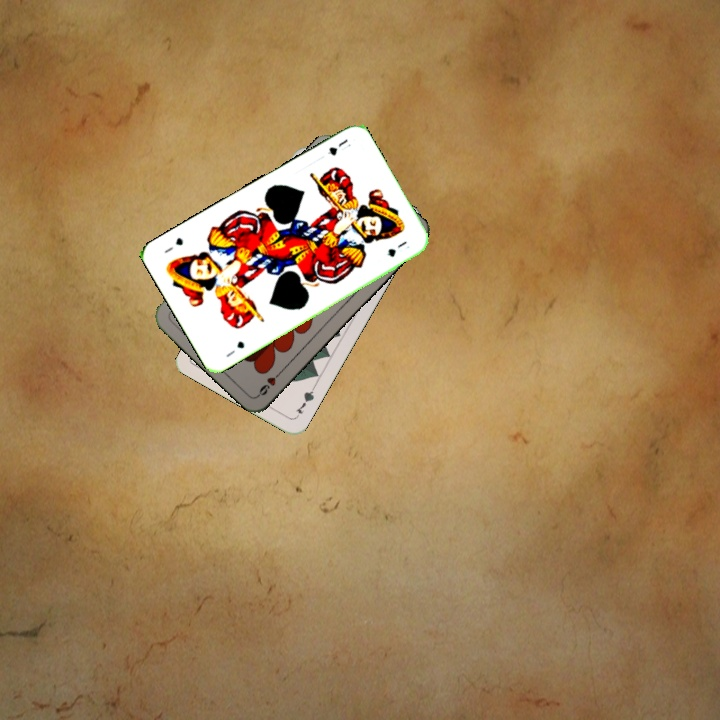G7: (291, 383, 317, 420)
GU: (324, 135, 354, 158), (222, 337, 247, 360)
H9: (254, 366, 285, 399)
